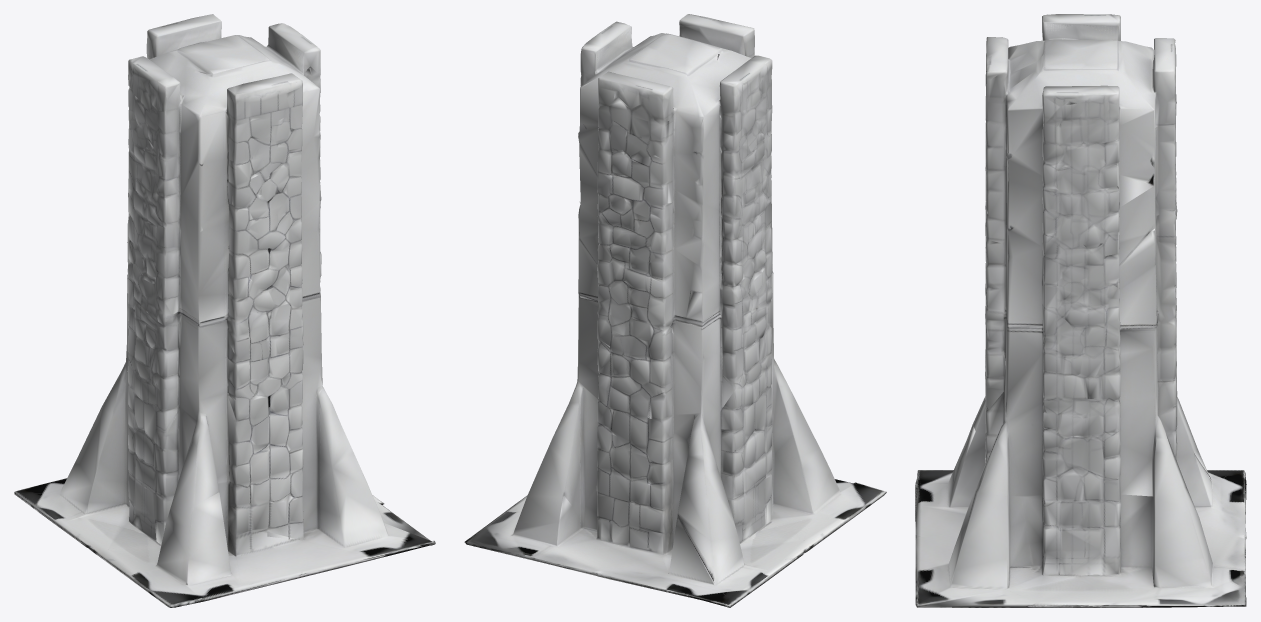
File: Rook.fbx
3 views of the same model, side by side, from view 1: azimuth 30°, elevation 25°; view 2: azimuth 150°, elevation 25°; view 3: azimuth 270°, elevation 25° (orthographic). The views are drawn at different scales.
Parts seen in each view (by area): view 1: Mesh_0; view 2: Mesh_0; view 3: Mesh_0.
Part boxes in pixels (x1,y1,x2,y2): Mesh_0: [14, 14, 435, 607]; Mesh_0: [464, 14, 886, 607]; Mesh_0: [915, 14, 1246, 607].
Size of the model in its own units: 120 by 200 by 123.
1 material, 1 textured.
